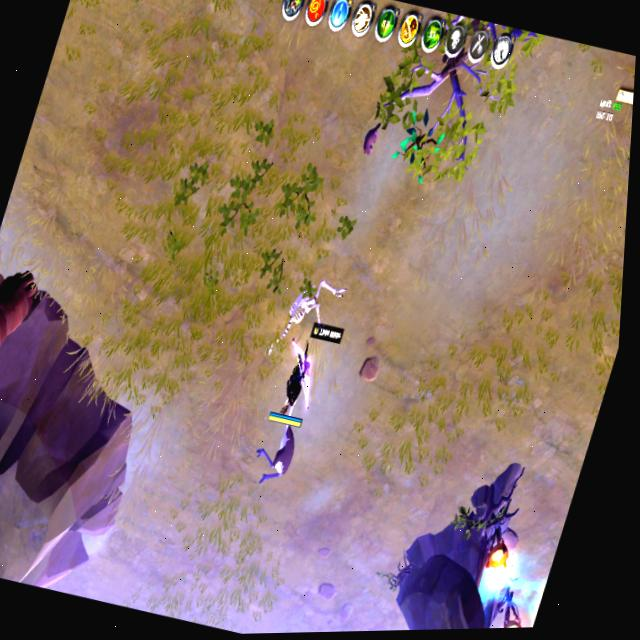mob: (241, 411, 306, 495)
red: (263, 341, 325, 436)
